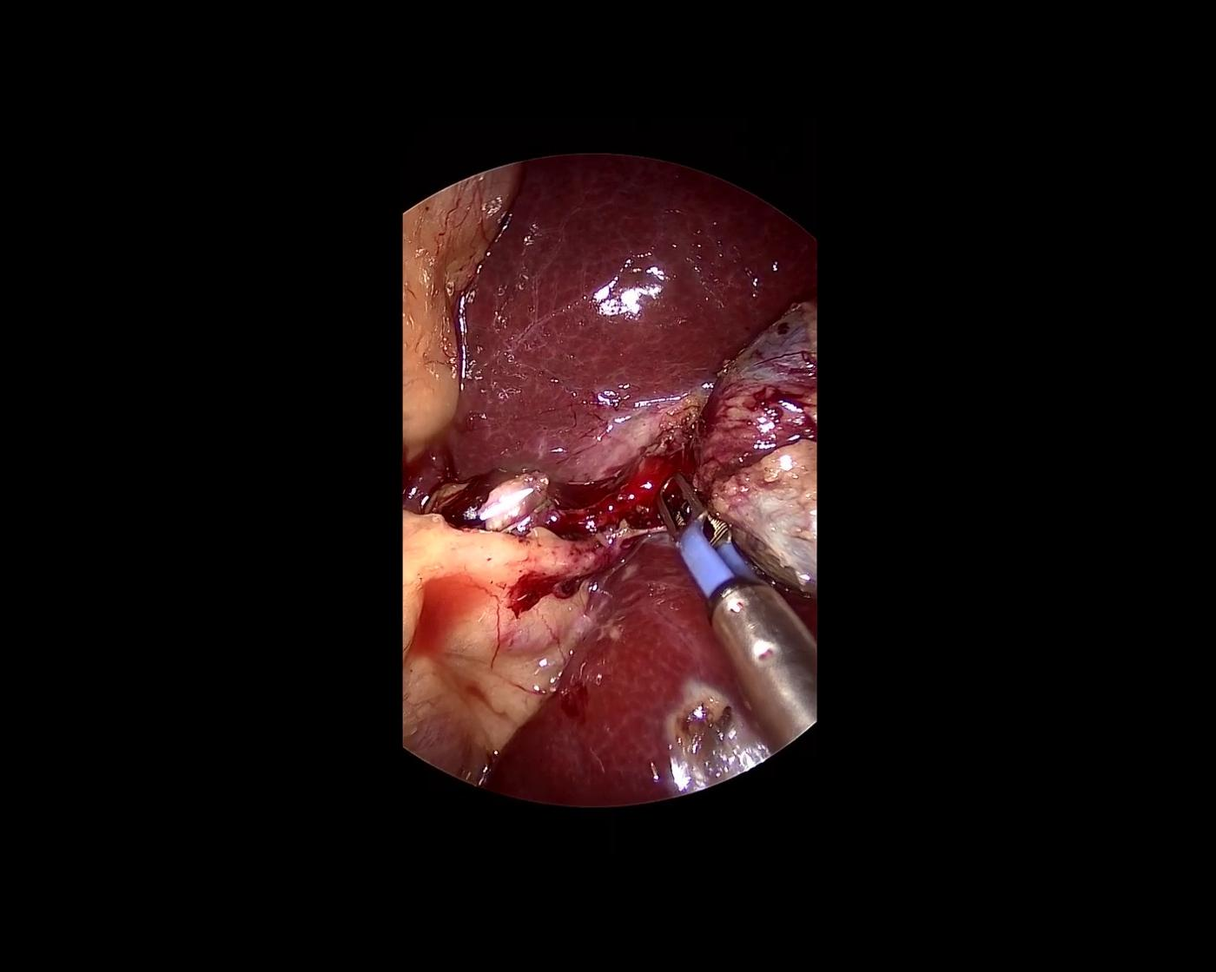Allis: (644, 450, 849, 756)
Gallbladder: (691, 298, 816, 602)
Liver: (444, 155, 818, 489), (421, 521, 773, 866)
